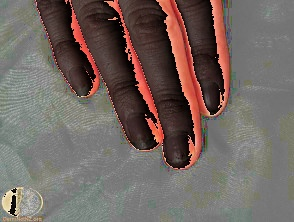Nail_psoriasis: (159, 138, 203, 174), (195, 86, 230, 119), (126, 125, 163, 153), (65, 74, 98, 100)
